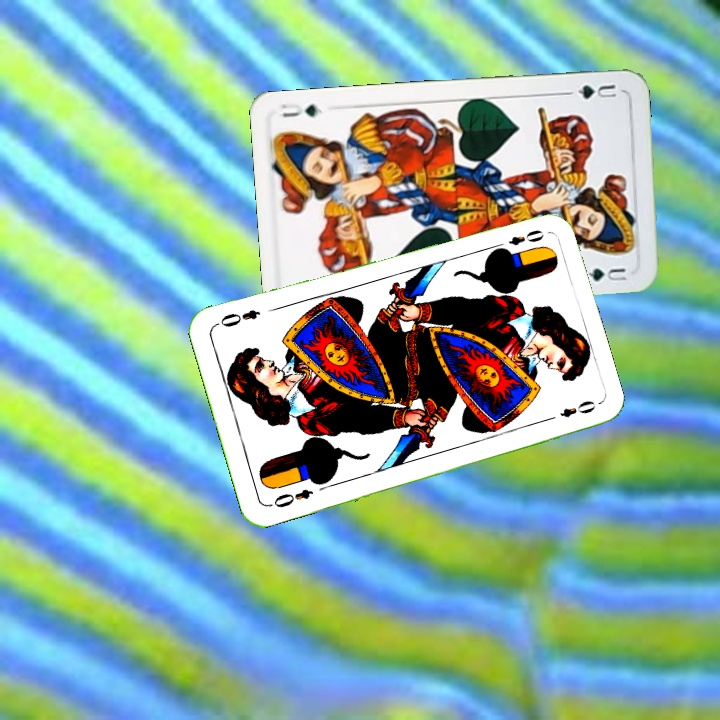EO: (490, 225, 547, 253), (265, 485, 316, 511)
GU: (574, 80, 619, 102)
